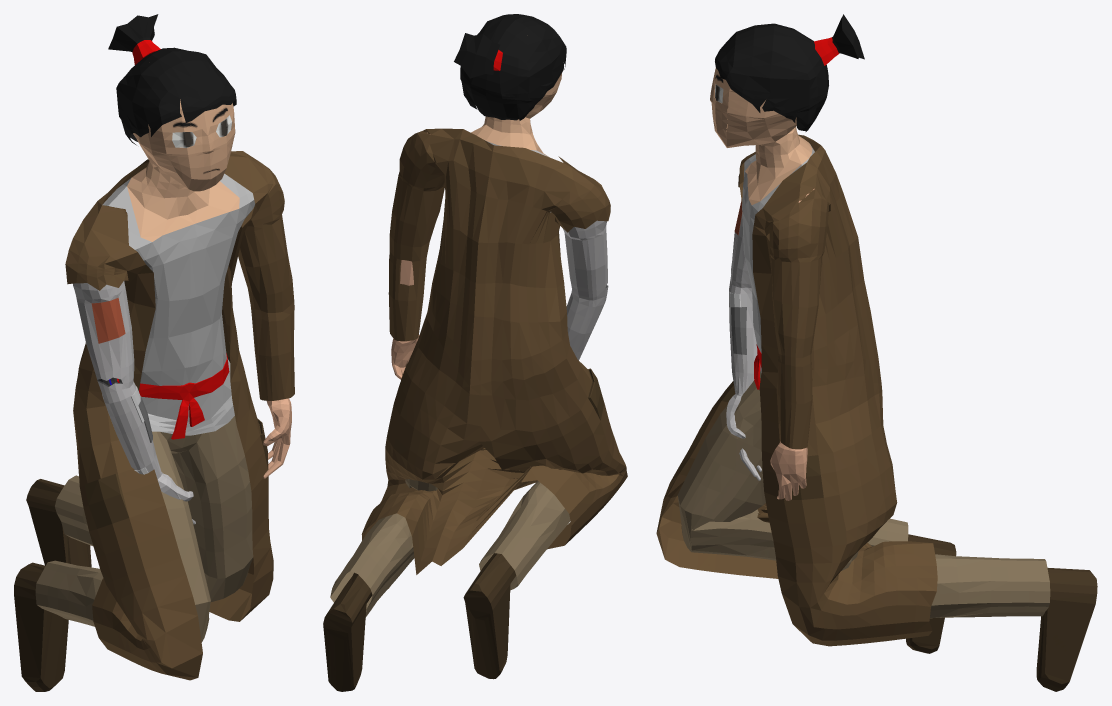
File: One_Die_000006.obj
The picture shows the model from 3 angles, left to right: view 1: azimuth 30°, elevation 25°; view 2: azimuth 150°, elevation 25°; view 3: azimuth 270°, elevation 25°; orthographic projection. The views are drawn at different scales.
Visible parts, largest first — view 1: Hair_Cube.004; view 2: Hair_Cube.004; view 3: Hair_Cube.004.
Part boxes in pixels (<box>): Hair_Cube.004: <box>14,14,294,691</box>; Hair_Cube.004: <box>323,14,627,691</box>; Hair_Cube.004: <box>656,14,1097,691</box>.
Size of the model in its own units: 1.15 by 3.2 by 1.94.
